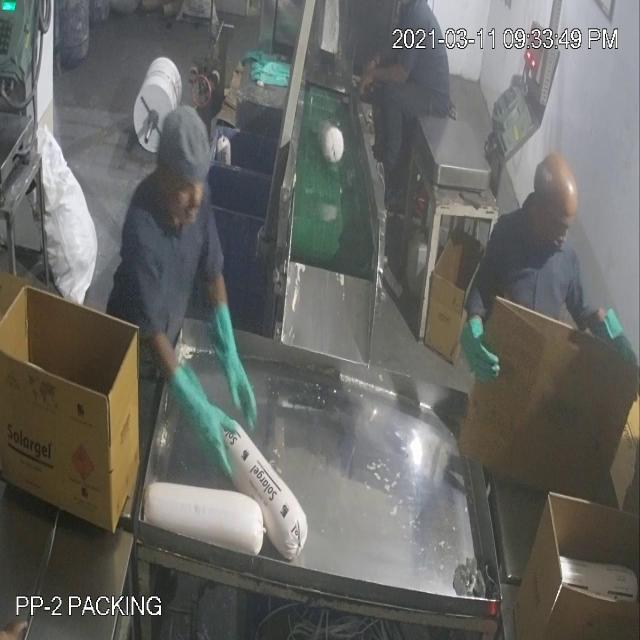gloves: (168, 357, 254, 489), (205, 295, 271, 436), (447, 308, 515, 387)
no-gloves: (348, 54, 404, 105)
